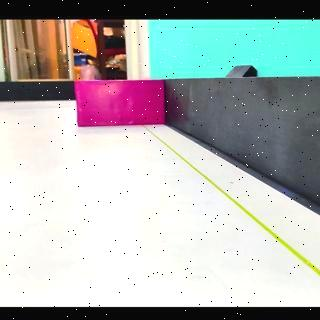xparking: (78, 80, 164, 125)
